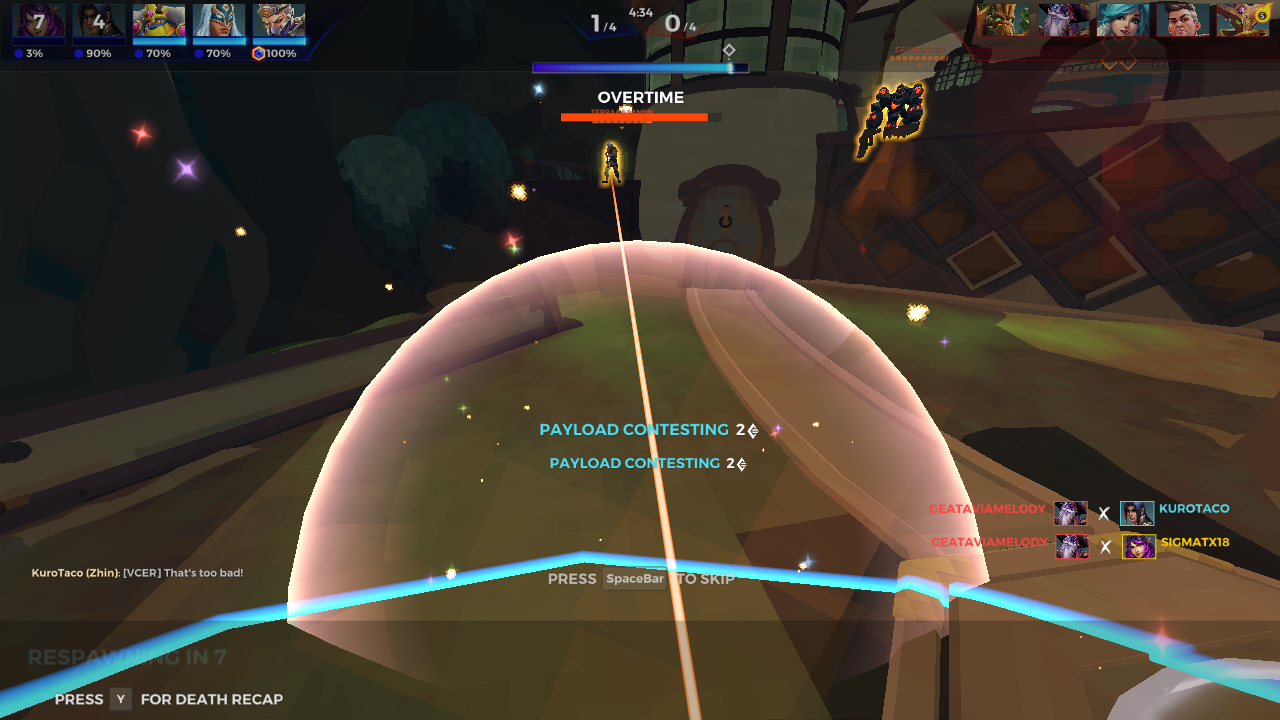model: (857, 79, 926, 164), (600, 139, 622, 185)
